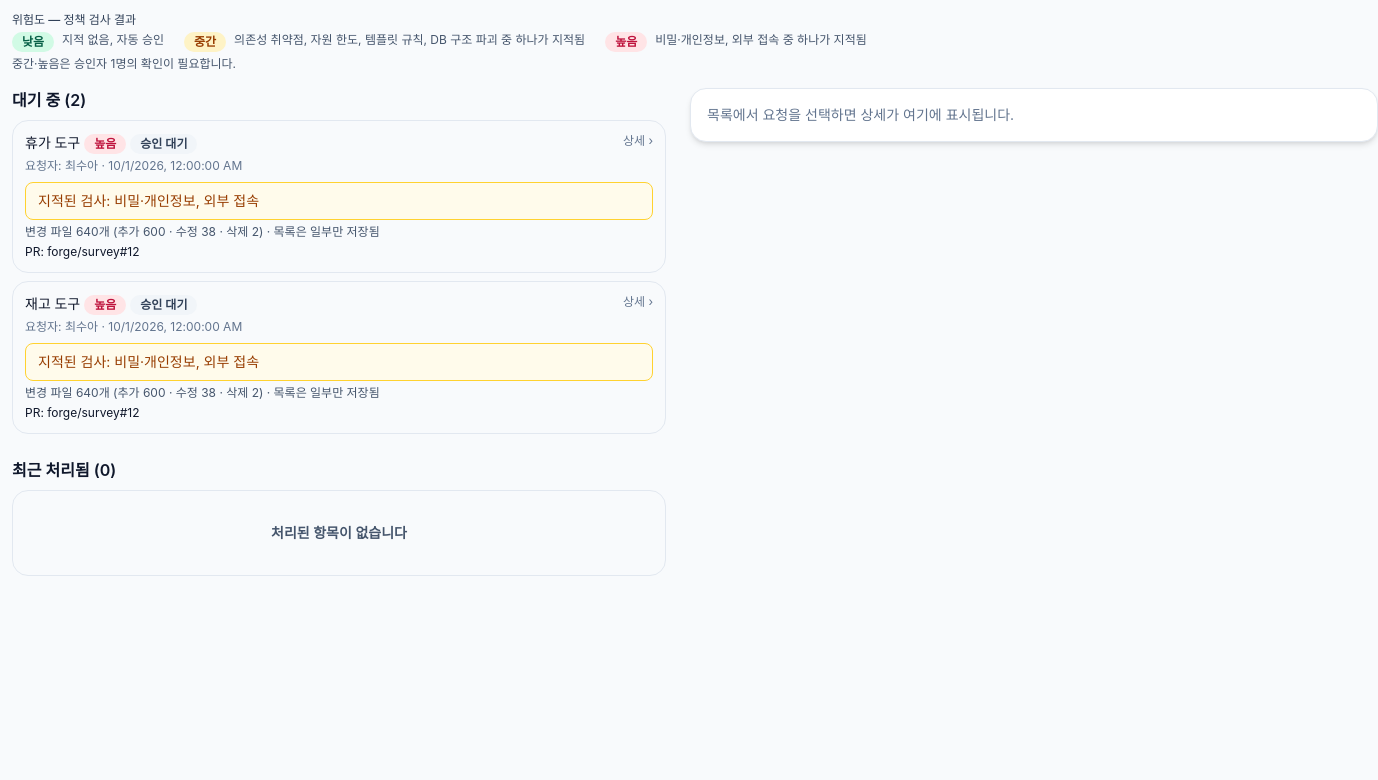
Test: the tabs › returns to 요약 when another request is chosen, and keeps the tab when the same request is decided on
Click the list item with aria-label "휴가 도구 요청 상세 보기" at (339, 196), box [12,120,666,273]
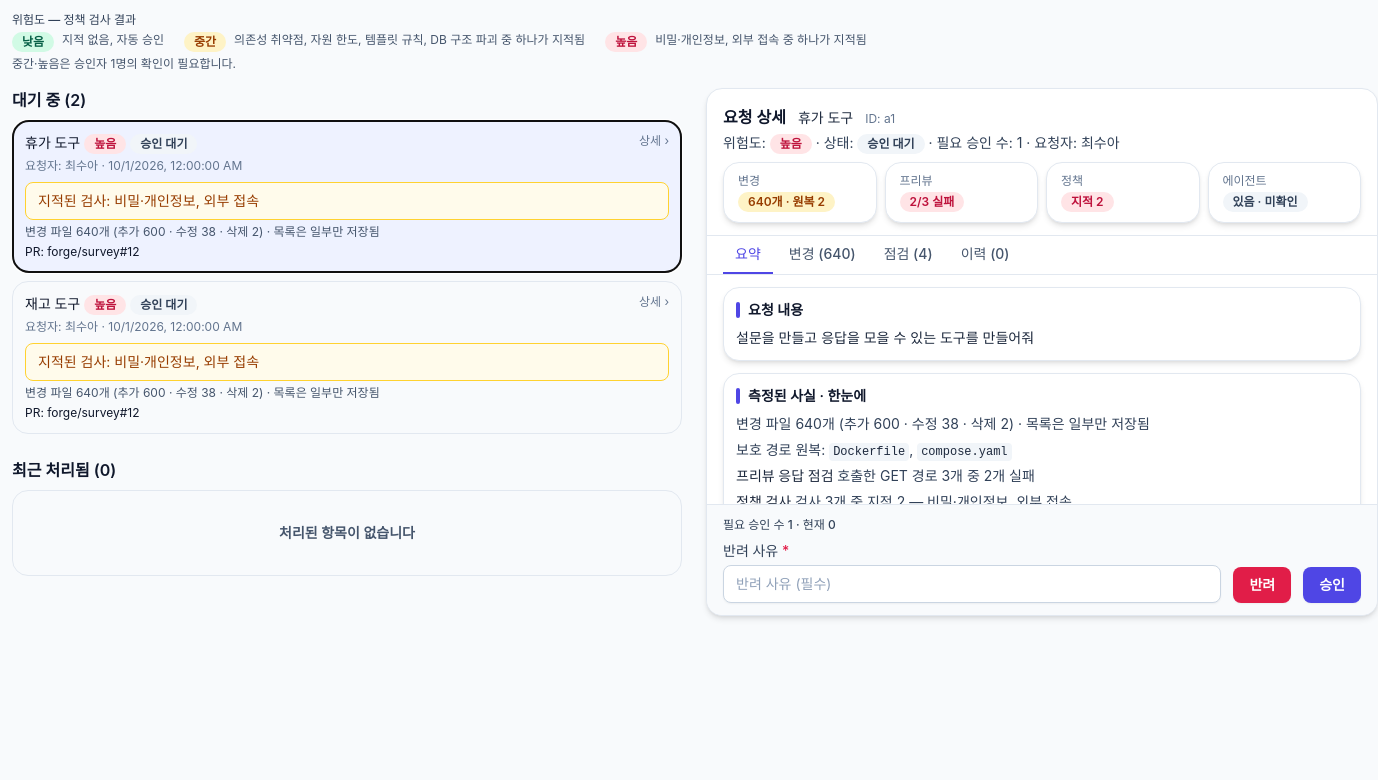
Click the tab "점검 (4)" at (908, 255), box [872,236,945,274]
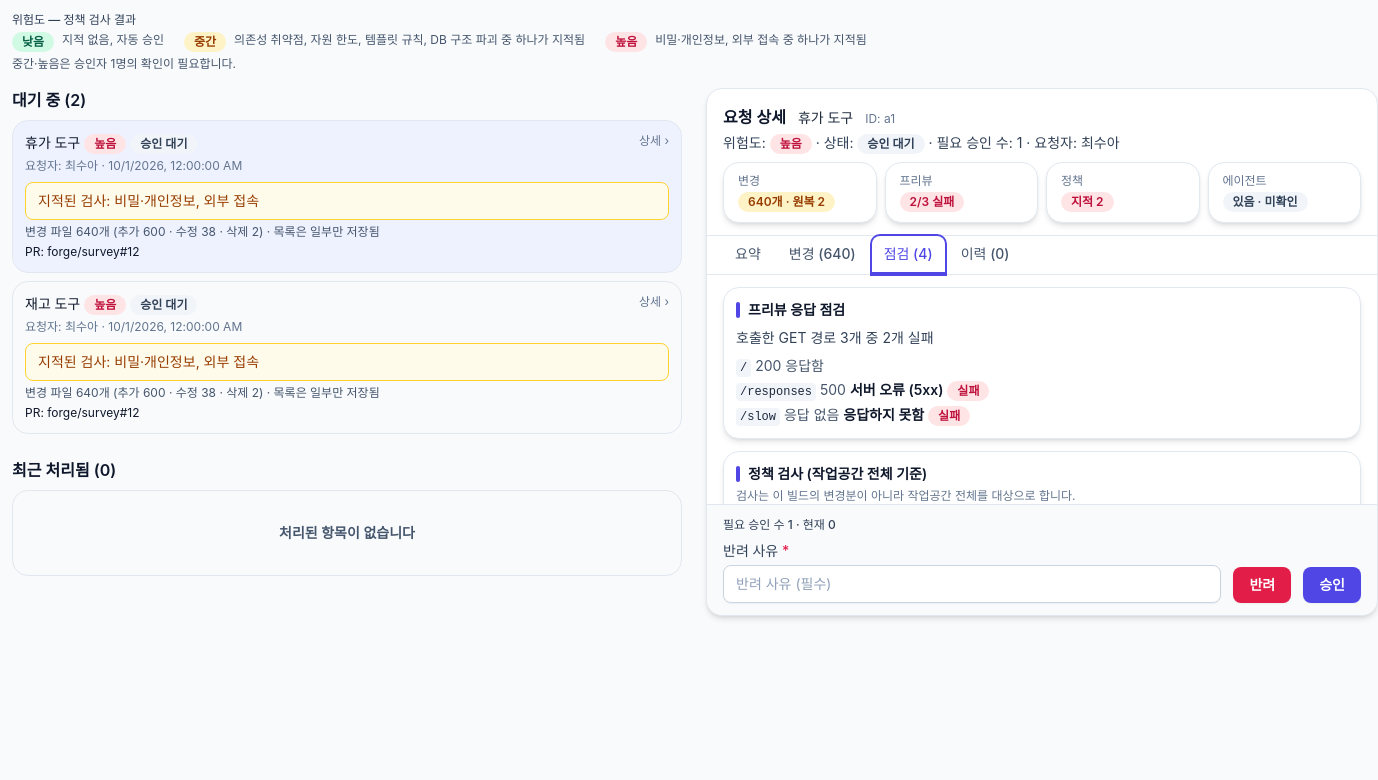
Result: the heading "프리뷰 응답 점검" is shown at [736,301,845,318]
Click the list item with aria-label "재고 도구 요청 상세 보기" at (347, 358), box [12,281,682,434]
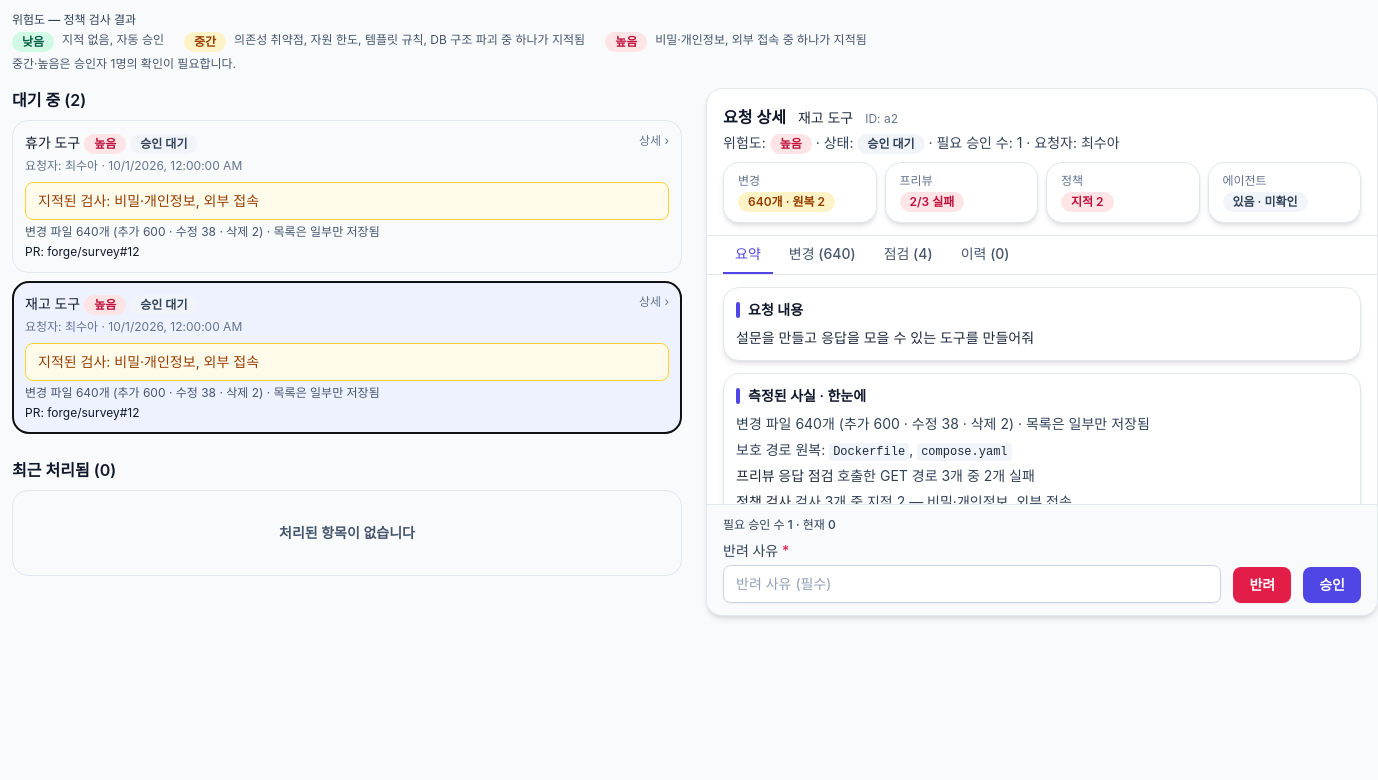
Result: the text "ID: a2" is shown at [865,111,898,127]
Result: the heading "요청 내용" is shown at [736,301,803,318]
Click the tab "변경 (640)" at (822, 255), box [777,236,868,274]
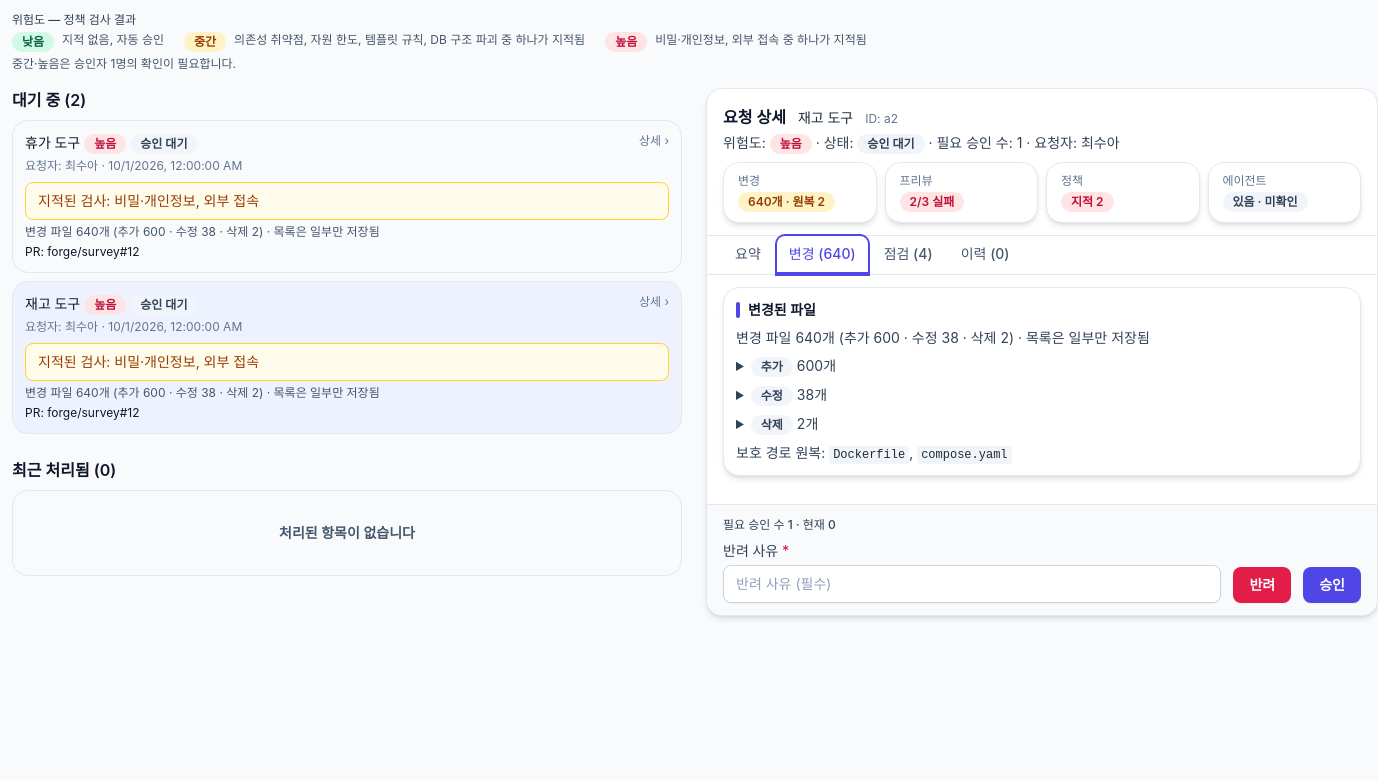
Type "정책 지적" into the field labelled "반려 사유 *" at (972, 584), box [723,565,1222,603]
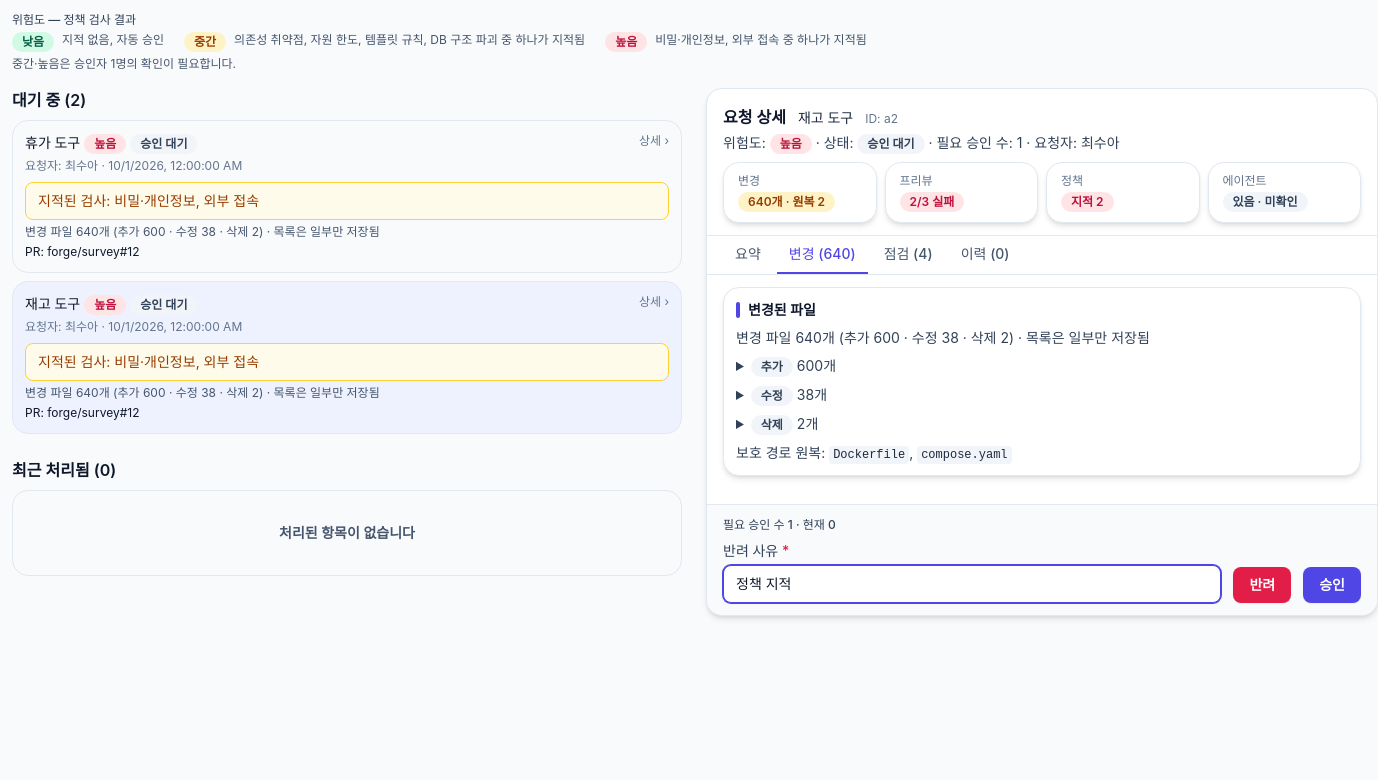
Click the button "반려" at (1262, 585), box [1234,567,1291,603]
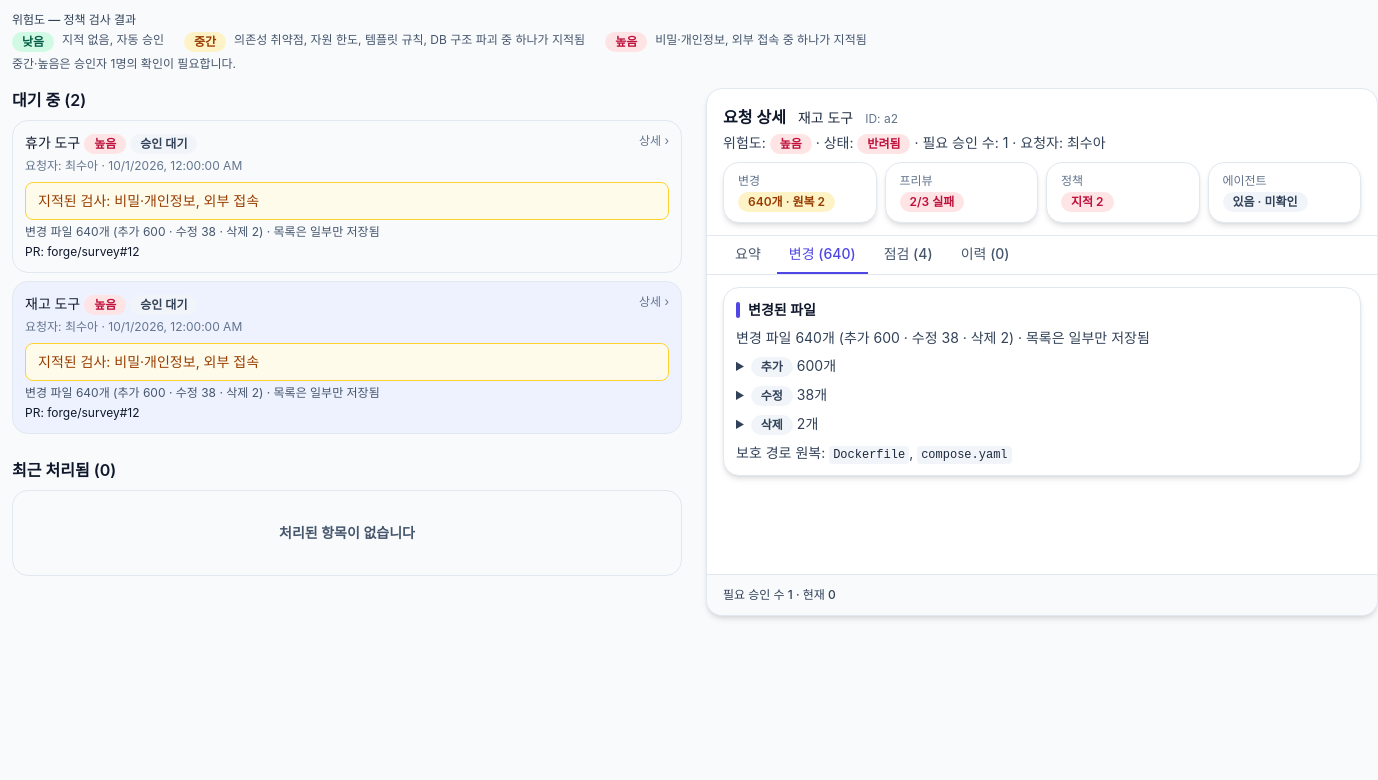
Result: the text "반려됨" is shown at [857,134,910,154]
